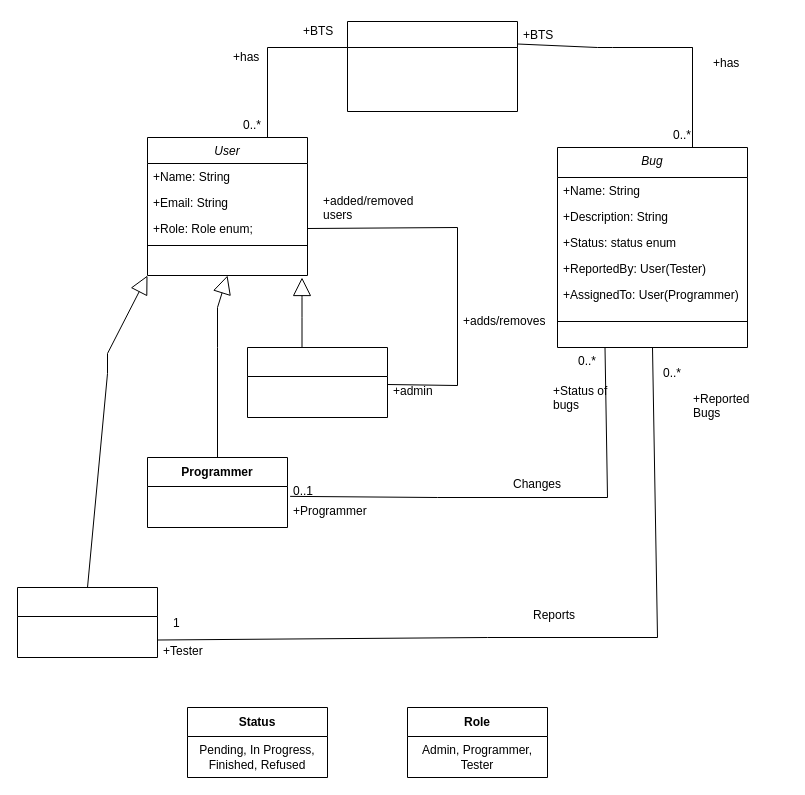
The diagram is 805 pixels wide and 795 high, and some of its shapes have lost their labels. Here are the shapes that lost their labels. From the top down, the centre of each, then its label:
(432,66): BUG TRACKING SYSTEM
(317,382): Admin
(87,622): Tester
